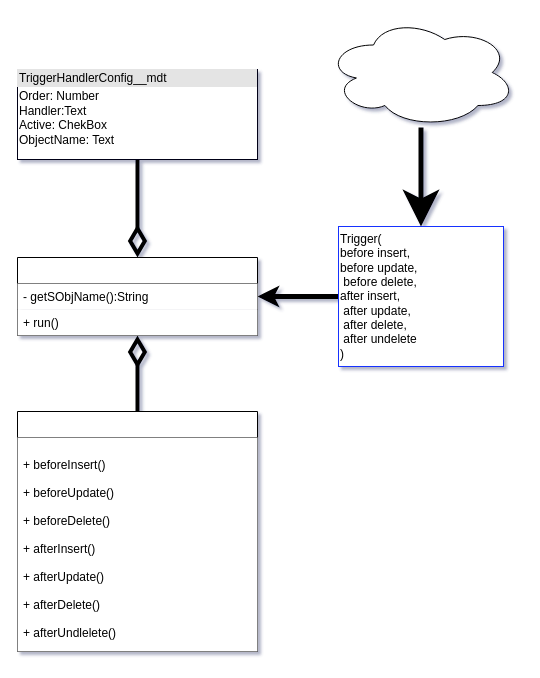
Some shapes in this 540 by 678 pixel diagram are drawn without their labels. Each missing label, with the box of its shape:
Abstract class TriggerHandler: (16, 410, 258, 652)
Salesforce: (325, 16, 516, 128)
TriggerFramework: (16, 256, 258, 336)
